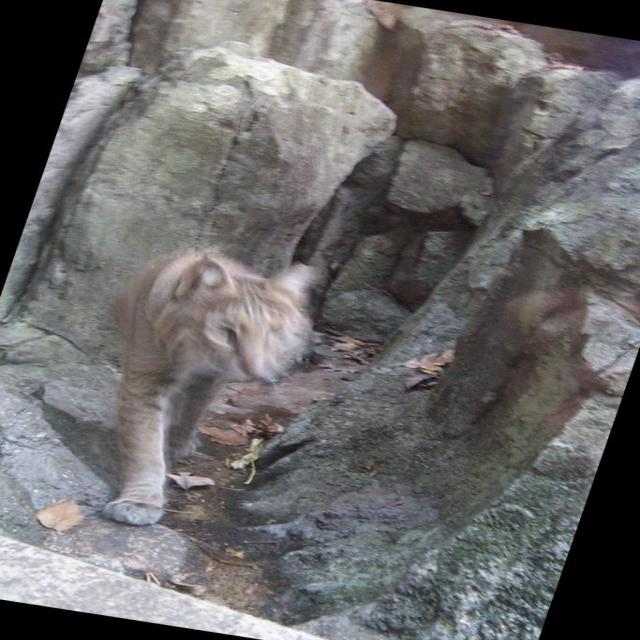Lion: (40, 237, 338, 542)
